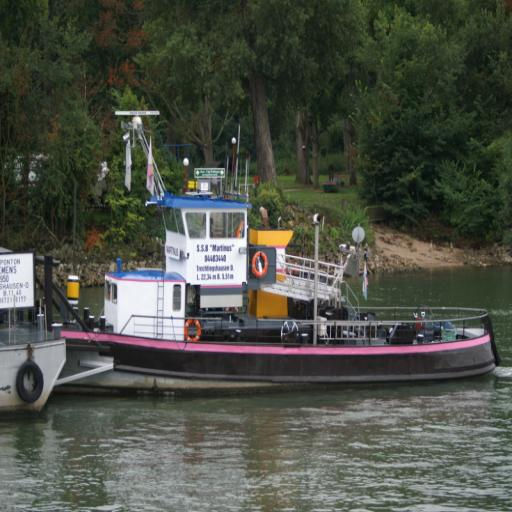tugboat: (2, 104, 506, 404)
